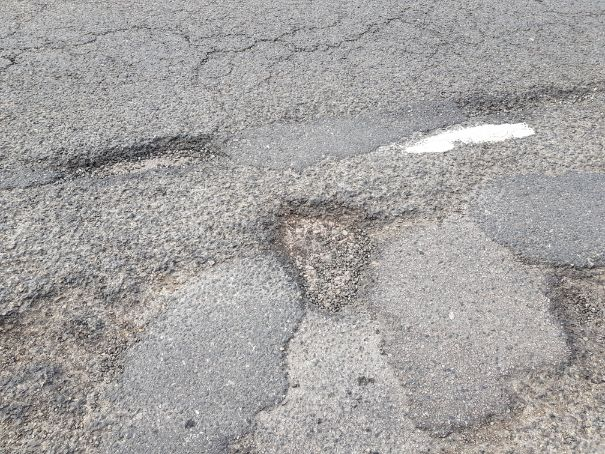pothole: (258, 186, 384, 317), (526, 254, 605, 376), (57, 129, 227, 181)
